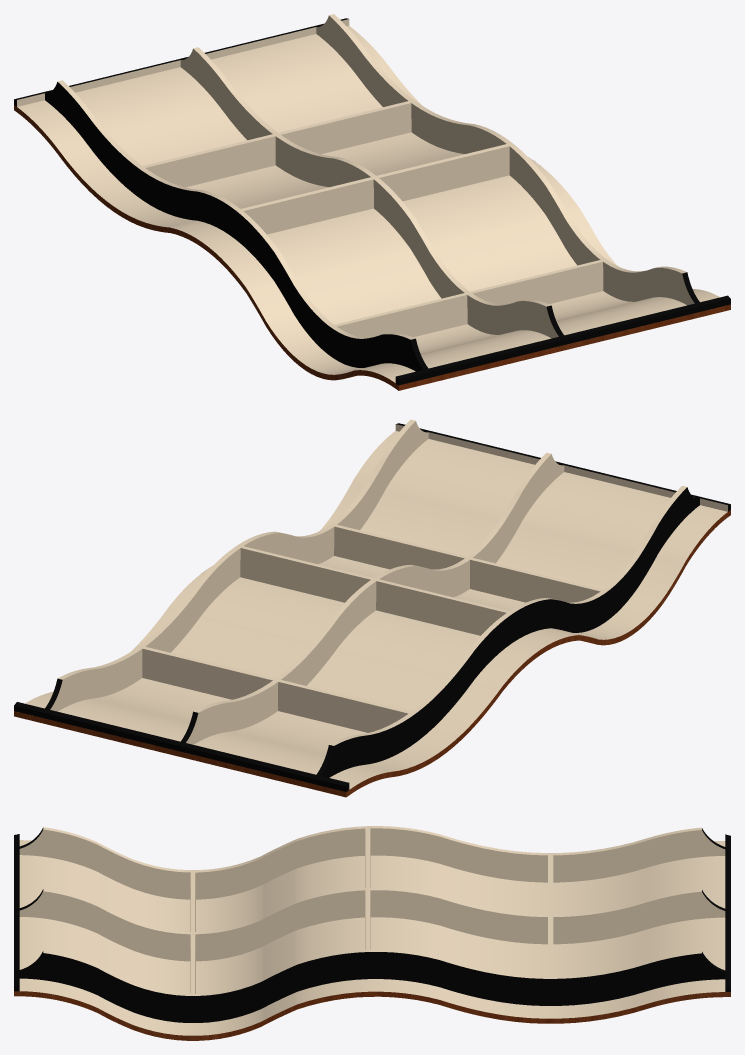
File: WaveW InsetEdge.glb
3 renders of one model, top to bottom at view 1: azimuth 30°, elevation 25°; view 2: azimuth 150°, elevation 25°; view 3: azimuth 270°, elevation 25°, orthographic. The views are drawn at different scales.
Visible parts, largest first — view 1: 6282, Component#3 (×2), Component#4; view 2: 6282, Component#3 (×2), Component#4; view 3: 6282, Component#3 (×2), Component#4.
Boxes of the visible parts, x1,y1,x2,y2 form: 6282: [14, 26, 730, 390]; Component#3 (×2): [14, 14, 730, 385]; Component#4: [178, 47, 567, 345]; 6282: [14, 431, 730, 797]; Component#3 (×2): [14, 419, 730, 791]; Component#4: [177, 452, 566, 751]; 6282: [14, 840, 730, 1040]; Component#3 (×2): [14, 826, 730, 1022]; Component#4: [14, 888, 730, 961].
Bounding box in the file's own units: 1.21 × 0.2854 × 2.43.
Materials: 938 (101 with a texture image).
